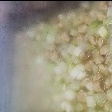dongguawanzi: (10, 0, 112, 112)
